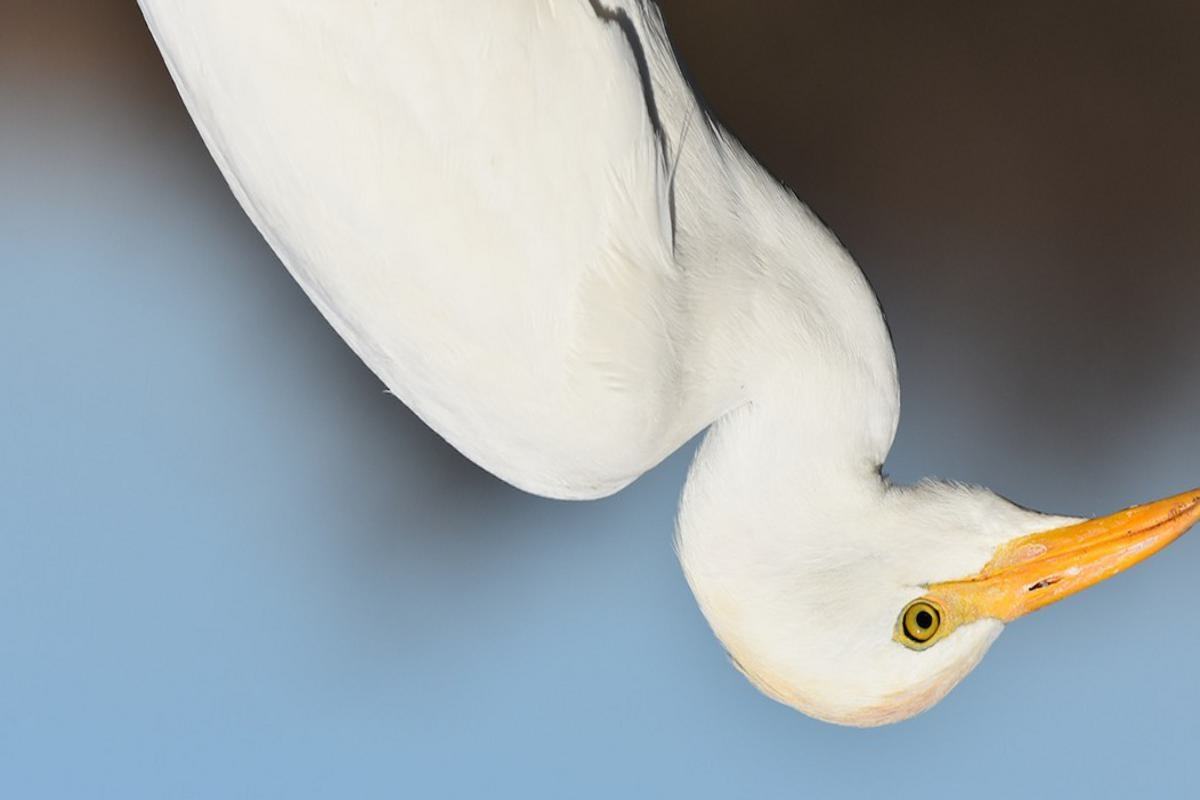egret: (188, 1, 1194, 739)
